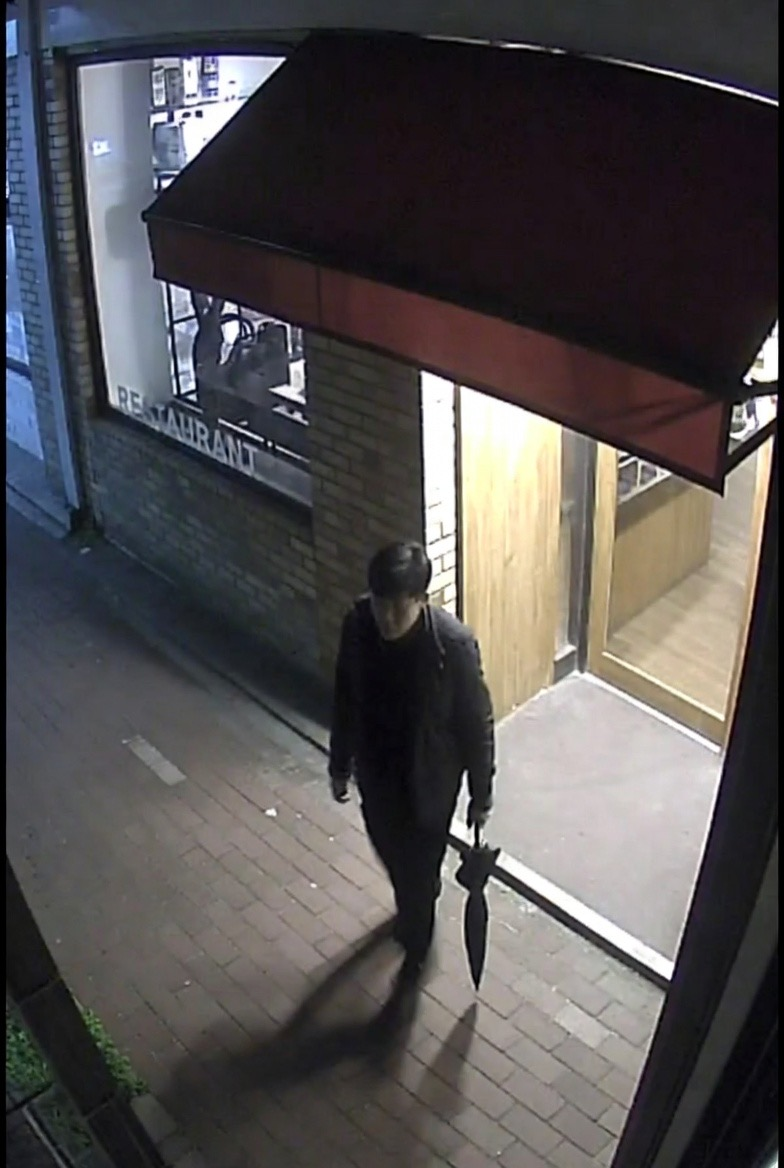person: (327, 540, 498, 978)
umbrella: (455, 822, 500, 991)
